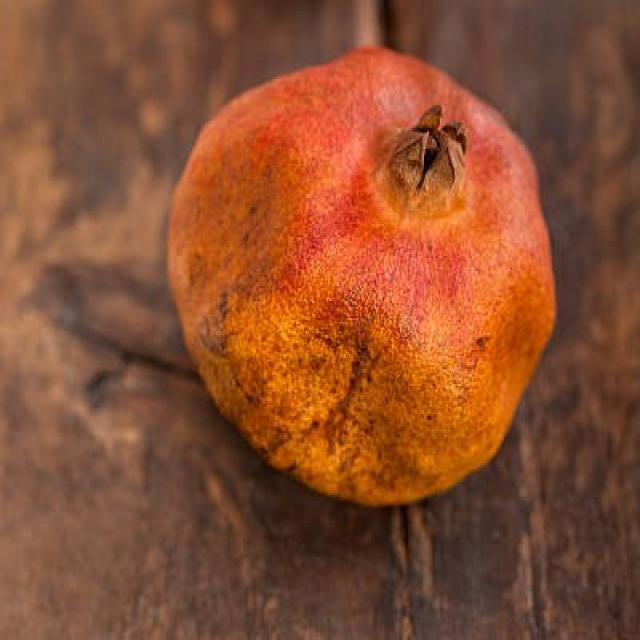overripe: (165, 38, 560, 506)
